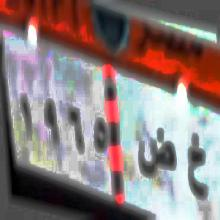1: (18, 91, 36, 150)
5: (92, 110, 108, 159)
6: (67, 101, 85, 161)
9: (42, 95, 59, 156)
daad: (137, 126, 177, 188)
khaa: (185, 127, 209, 204)
